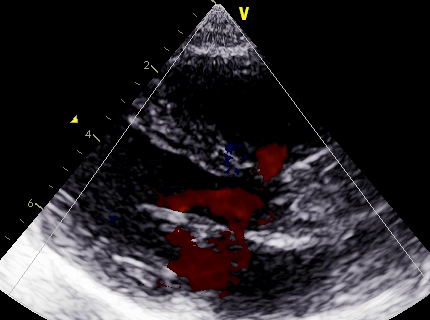AR: (170, 170, 272, 233)
